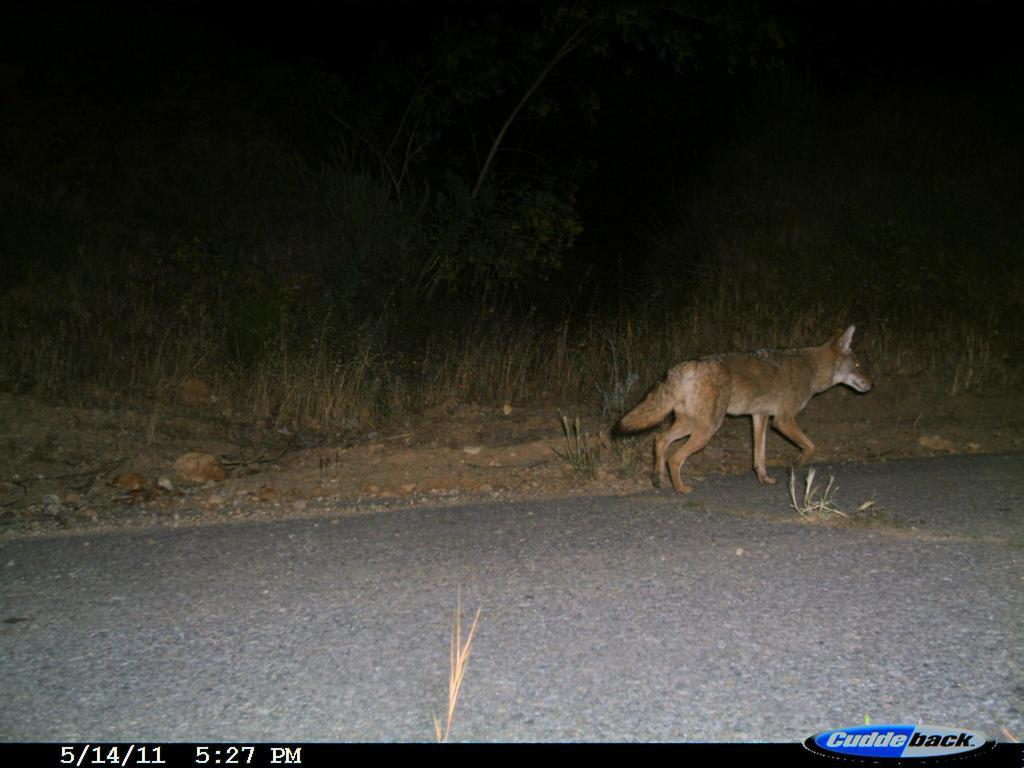coyote: (610, 317, 875, 502)
